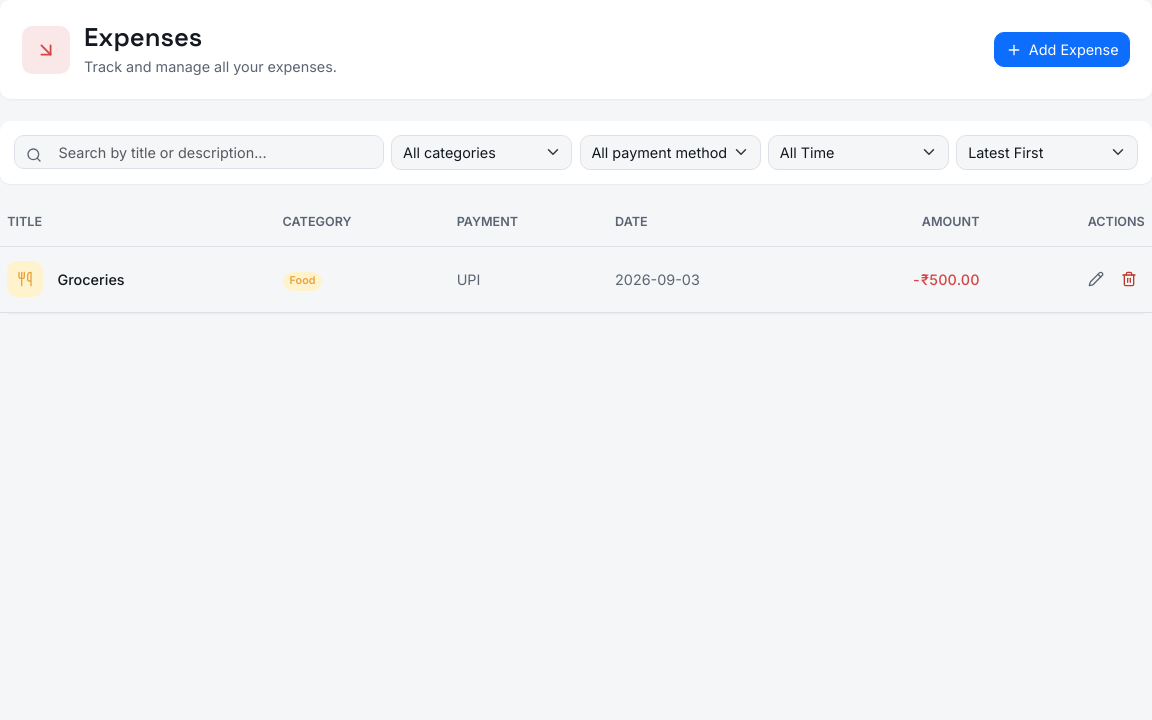
Expenses page — budget threshold toasts › shows no threshold toast on an edit that doesn't change the budget's tier
The image size is (1152, 720).
Click the button named "Edit" at (1096, 279), box 1080,265 -> 1112,293
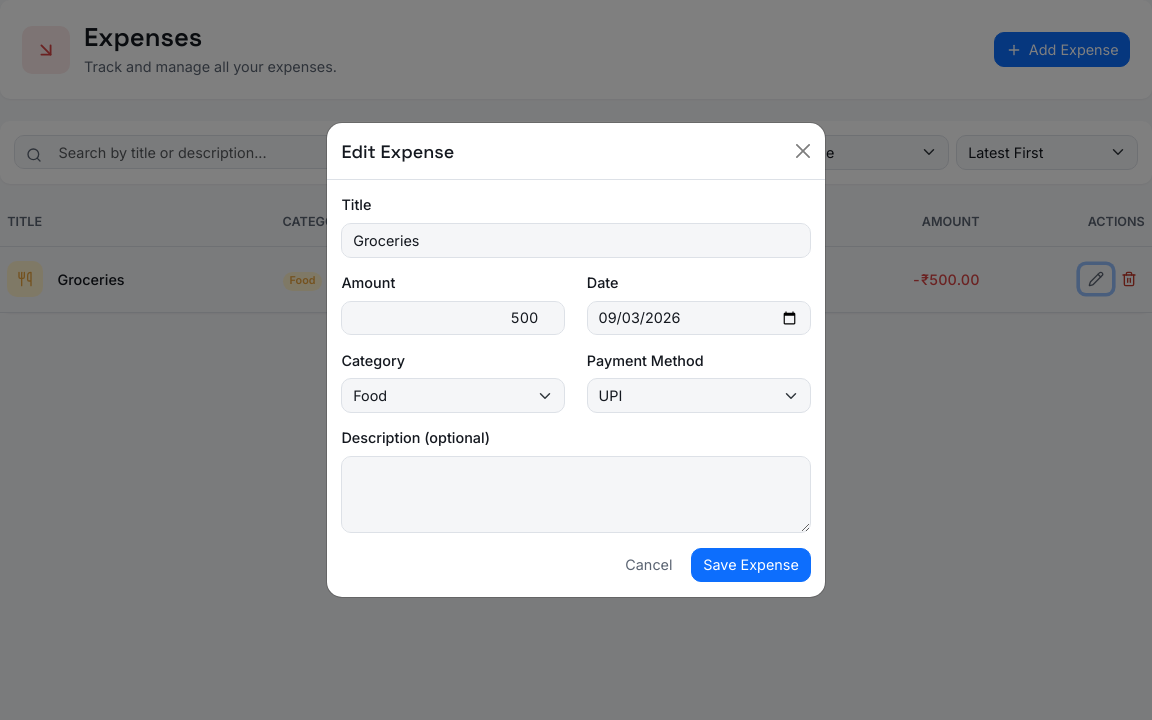
Replace the text in the field labelled "Title" with "Weekly Groceries" at (576, 240), box 341,223 -> 811,258
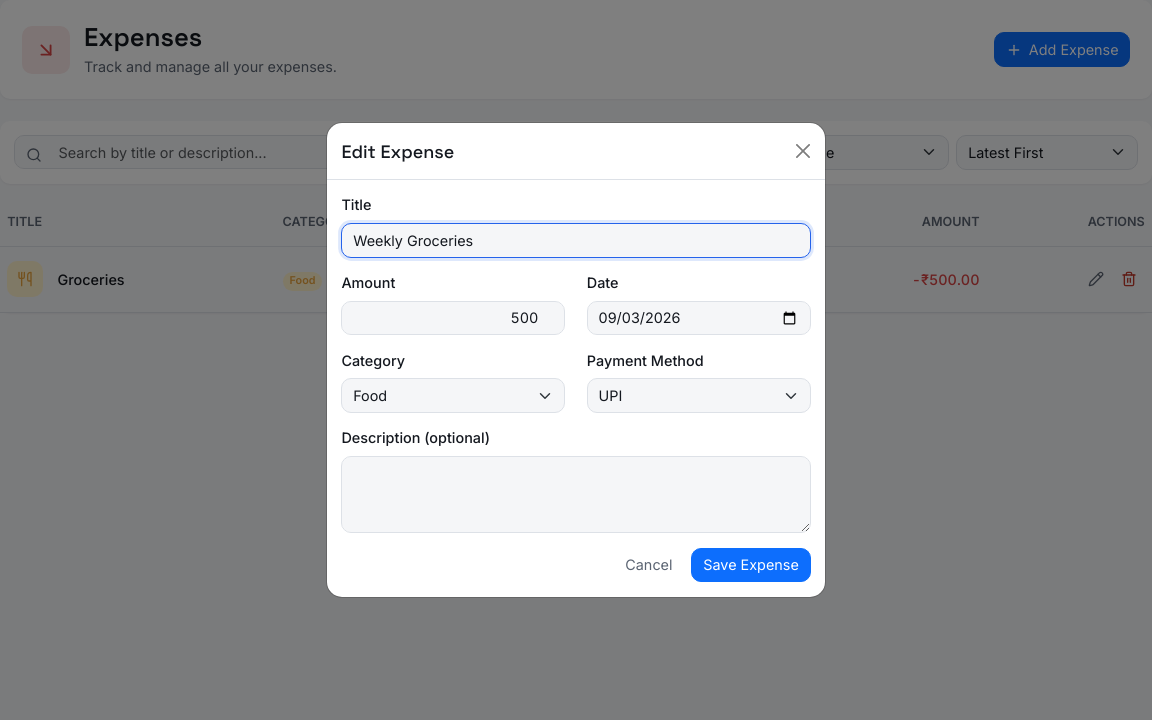
Click the button "Save Expense" at (751, 565), box 692,548 -> 811,582
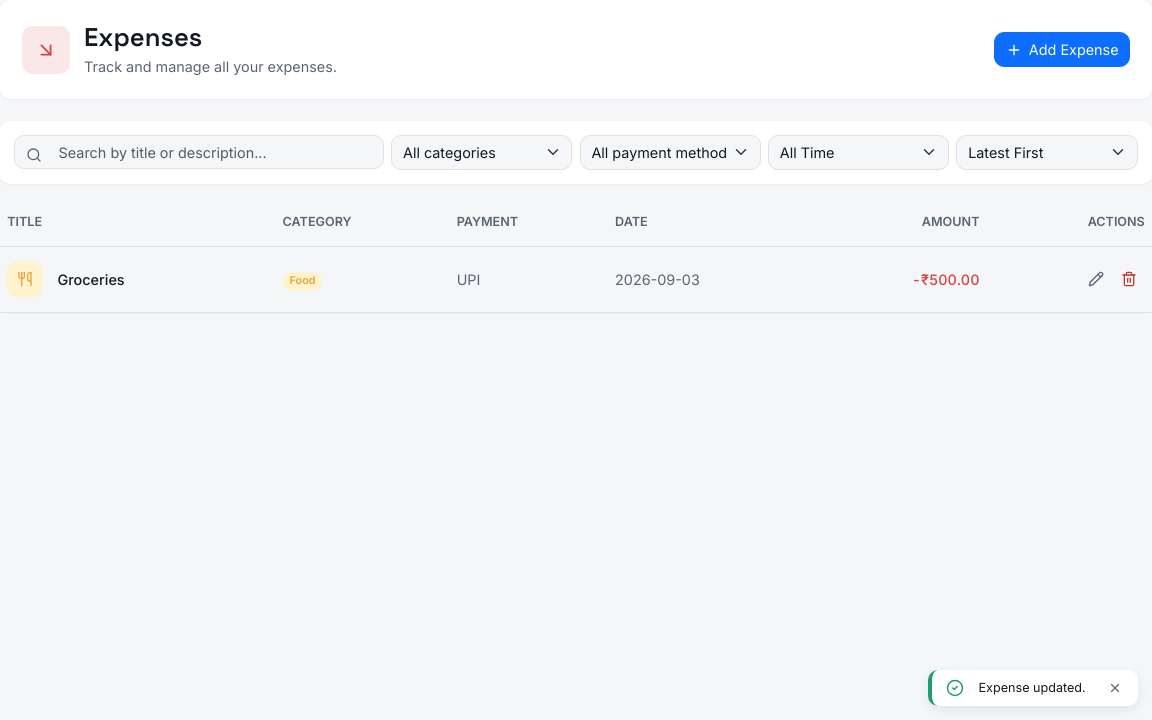
Now the text "Expense updated." is shown, box 978,678 -> 1086,697
